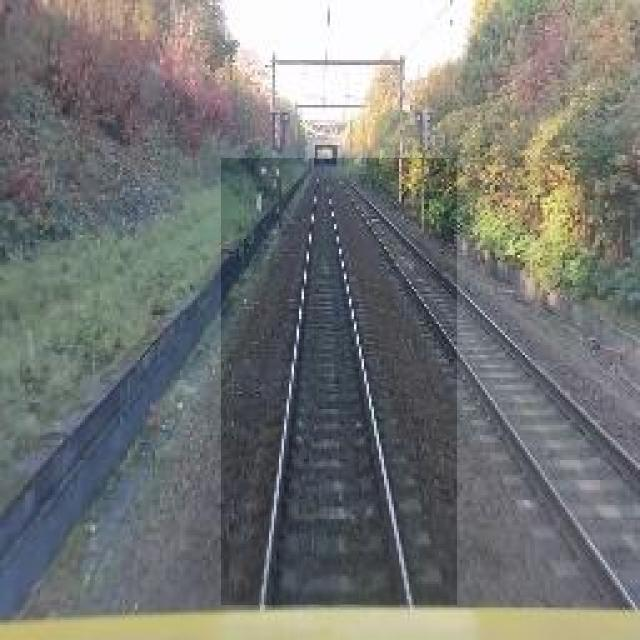rail: (223, 159, 458, 606)
